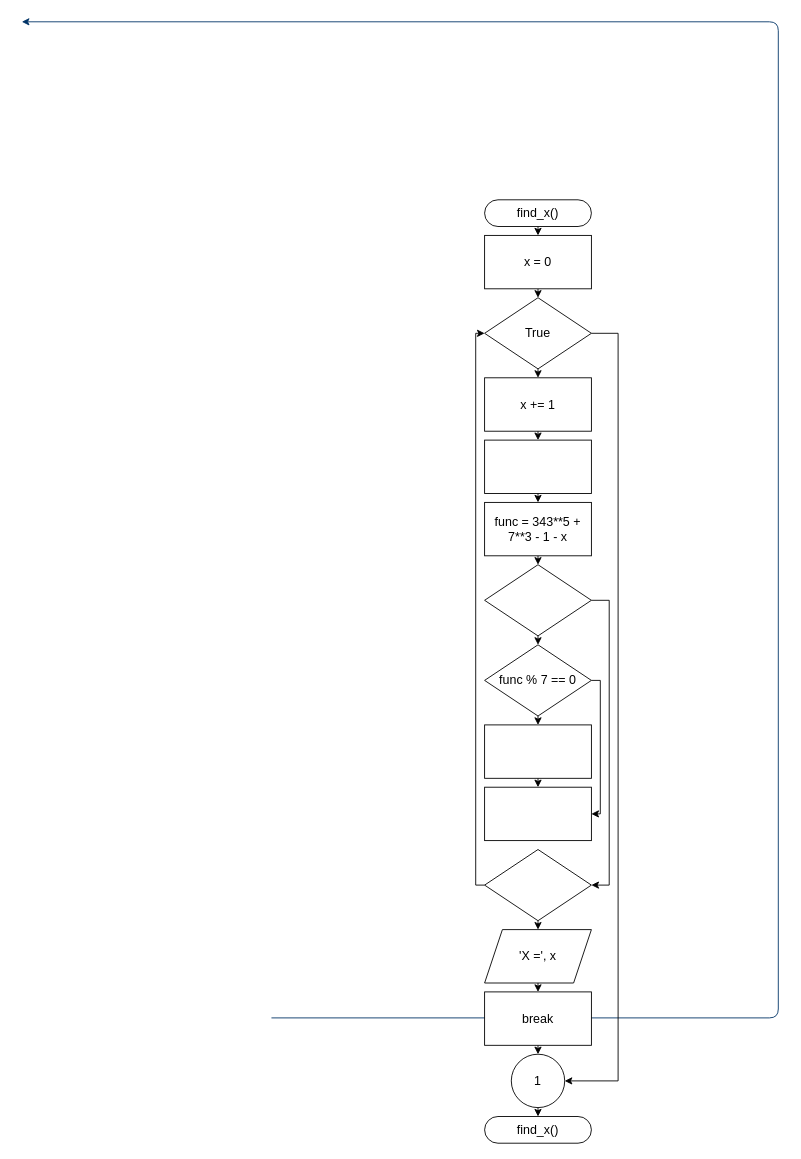
Image size: 801x1159. Some labels were removed from this diagram. Here are the shapes that lost their labels. From the top down, the centre of each, then its label:
the point at 537,466: count_six = 0
the point at 537,600: func > 0
the point at 537,751: count_six += 1
the point at 537,813: func = func // 7
the point at 537,885: count_six == 12
